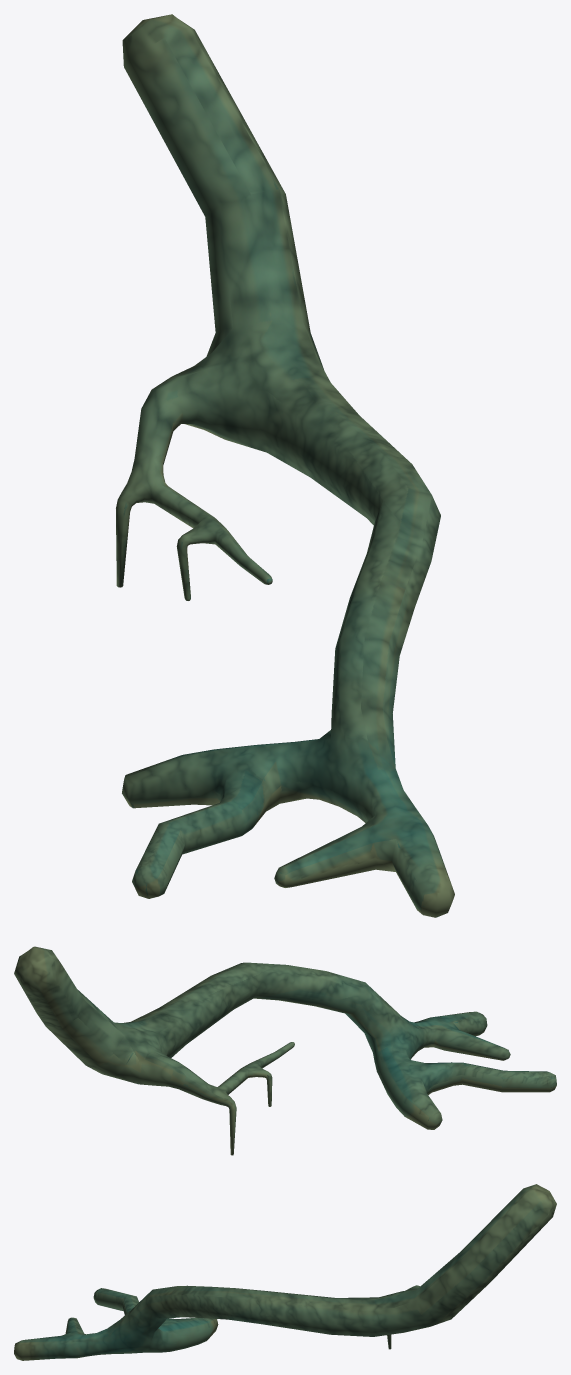
The model's file is raiz grande 1.fbx.
3 renders of one model, top to bottom at view 1: azimuth 30°, elevation 25°; view 2: azimuth 150°, elevation 25°; view 3: azimuth 270°, elevation 25°, orthographic. The views are drawn at different scales.
Parts seen in each view (by area): view 1: raiz grande; view 2: raiz grande; view 3: raiz grande.
Part boxes in pixels (x1=…): raiz grande: x1=116, y1=14, x2=454, y2=917; raiz grande: x1=14, y1=946, x2=556, y2=1155; raiz grande: x1=14, y1=1184, x2=556, y2=1360.
Bounding box in the file's own units: 445 × 381 × 805.
1 material, 1 textured.
